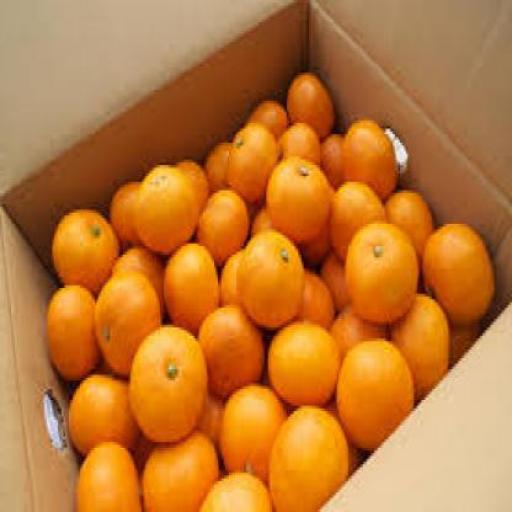biodegradable: (132, 322, 212, 442), (337, 336, 417, 450), (272, 403, 352, 509), (95, 266, 166, 378), (345, 218, 421, 322), (425, 218, 497, 319), (391, 291, 452, 403), (239, 226, 305, 328), (220, 380, 288, 476), (145, 425, 219, 509), (68, 370, 140, 456), (270, 319, 344, 402), (202, 302, 266, 395), (54, 204, 123, 286), (268, 154, 334, 237), (48, 279, 102, 378), (142, 162, 200, 248), (166, 241, 222, 330), (342, 114, 400, 196), (78, 440, 144, 510), (331, 179, 388, 260), (229, 118, 279, 201), (199, 187, 251, 266), (386, 188, 437, 252), (287, 67, 337, 131), (334, 302, 392, 355), (201, 467, 274, 509), (115, 243, 166, 302), (304, 182, 338, 268), (110, 177, 145, 243), (176, 156, 212, 213), (298, 268, 337, 319), (249, 95, 291, 140), (280, 121, 322, 165), (447, 311, 482, 361), (197, 386, 229, 440), (322, 246, 348, 310), (220, 246, 248, 305), (324, 128, 346, 188), (208, 140, 234, 185), (254, 202, 272, 229)
cardboard: (2, 0, 206, 154), (394, 0, 511, 145), (2, 156, 50, 378), (414, 405, 510, 509), (2, 378, 74, 509), (203, 0, 311, 73), (339, 0, 395, 132), (436, 145, 510, 224), (50, 157, 112, 207), (470, 344, 511, 408), (354, 465, 413, 509), (311, 0, 340, 70), (205, 76, 270, 102), (402, 146, 436, 188), (205, 104, 242, 140), (497, 226, 511, 314), (395, 425, 414, 467), (447, 372, 469, 408), (494, 321, 510, 342), (376, 448, 394, 464), (341, 484, 352, 509), (432, 389, 447, 406), (326, 498, 341, 509), (501, 308, 511, 320)
